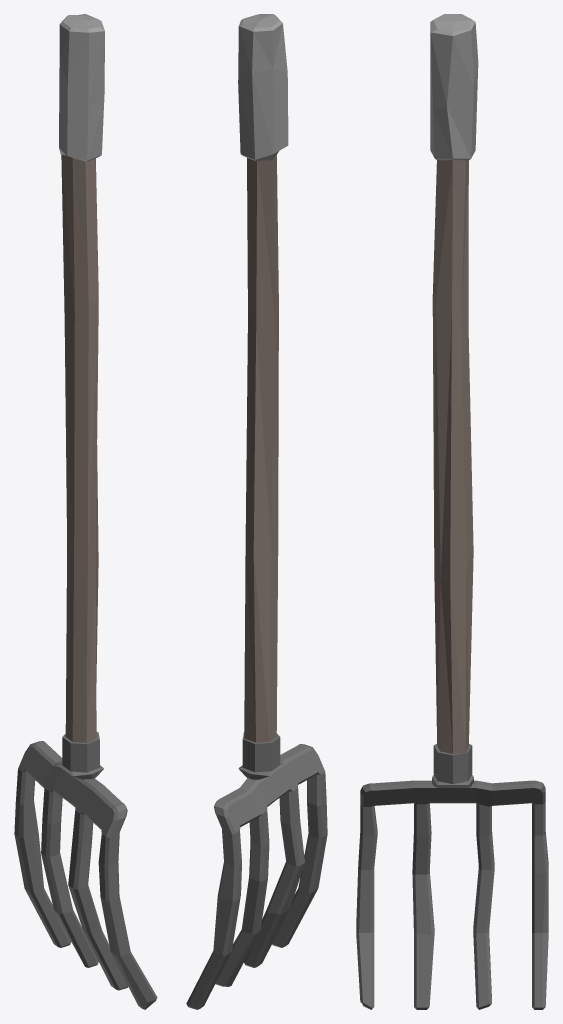
The model's file is fourche.fbx.
3 renders of one model, left to right at view 1: azimuth 30°, elevation 25°; view 2: azimuth 150°, elevation 25°; view 3: azimuth 270°, elevation 25°, orthographic.
Parts seen in each view (by area): view 1: Fourche; view 2: Fourche; view 3: Fourche.
Part boxes in pixels (x1=…): Fourche: x1=14, y1=14, x2=157, y2=1009; Fourche: x1=186, y1=14, x2=327, y2=1009; Fourche: x1=356, y1=14, x2=548, y2=1009.
Bounding box in the file's own units: 6.81 × 108 × 19.32.
